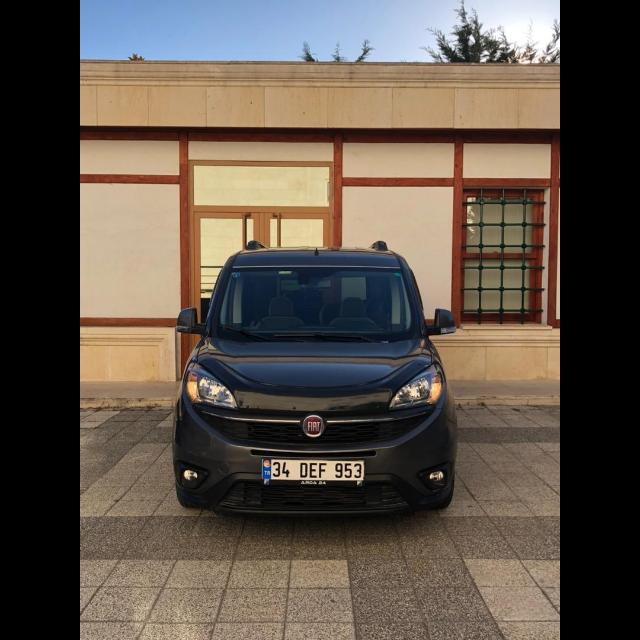Plaka: (262, 460, 364, 480)
